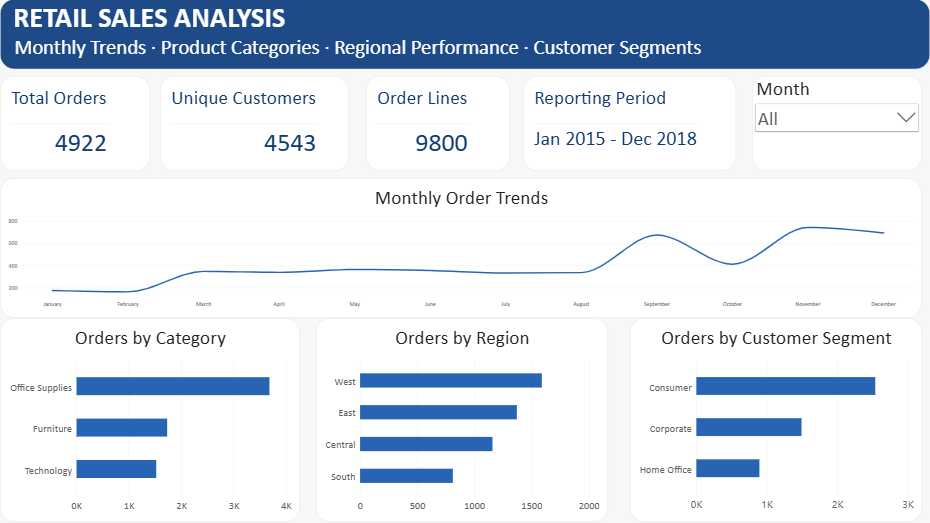

This screenshot's page, from the dashboard's own definition file:
{"tool":"powerbi","page":{"name":"Page 1","canvas":[1920,1080],"ordinal":0},"visuals":[{"type":"lineChart","title":"Monthly Order Trends","fields":{"Category":["monthly_order_activity.order_month.Variation.Date Hierarchy.Month"],"Y":["Sum(monthly_order_activity.unique_orders)"]},"box":[0,369.5,1903.5,289],"z":0},{"type":"clusteredBarChart","title":"Orders by Category","fields":{"Category":["category_activity.category"],"Y":["Sum(category_activity.unique_orders)"]},"box":[0,658.6,619.4,421.2],"z":2},{"type":"clusteredBarChart","title":"Orders by Region","fields":{"Category":["region_activity.region"],"Y":["Sum(region_activity.unique_orders)"]},"box":[652.4,658.6,602.8,421.2],"z":3},{"type":"clusteredBarChart","title":"Orders by Customer Segment","fields":{"Category":["segment_activity.segment"],"Y":["Sum(segment_activity.unique_orders)"]},"box":[1300.6,658.6,602.8,421.2],"z":4},{"type":"textbox","box":[0,0,1920,144.5],"z":5},{"type":"slicer","fields":{"Values":["monthly_order_activity.order_month.Variation.Date Hierarchy.Month"]},"box":[1552.5,159,351,196.1],"z":9},{"type":"tableEx","fields":{"Values":["monthly_order_activity.Reporting Period"]},"box":[1079.7,159,439.7,196.1],"z":10},{"type":"tableEx","fields":{"Values":["Sum(monthly_order_activity.unique_orders)"]},"box":[0,159,309.7,196.1],"z":11},{"type":"tableEx","fields":{"Values":["Sum(monthly_order_activity.unique_customers)"]},"box":[330.3,159,390.2,196.1],"z":12},{"type":"tableEx","fields":{"Values":["Sum(monthly_order_activity.order_lines)"]},"box":[755.6,159,297.3,196.1],"z":13}]}

Visuals, with their boxes in screenshot pixels (x1, y1, x2, y2), scaled from the page's 1920x1080 canvas onto the 930x523 screenshot:
"Monthly Order Trends" lineChart: bbox=[0, 179, 922, 319]
"Orders by Category" clusteredBarChart: bbox=[0, 319, 300, 522]
"Orders by Region" clusteredBarChart: bbox=[316, 319, 608, 522]
"Orders by Customer Segment" clusteredBarChart: bbox=[630, 319, 922, 522]
textbox: bbox=[0, 0, 929, 70]
slicer - monthly_order_activity.order_month.Variation.Date Hierarchy.Month: bbox=[752, 77, 922, 172]
tableEx - monthly_order_activity.Reporting Period: bbox=[523, 77, 736, 172]
tableEx - Sum(monthly_order_activity.unique_orders): bbox=[0, 77, 150, 172]
tableEx - Sum(monthly_order_activity.unique_customers): bbox=[160, 77, 349, 172]
tableEx - Sum(monthly_order_activity.order_lines): bbox=[366, 77, 510, 172]
